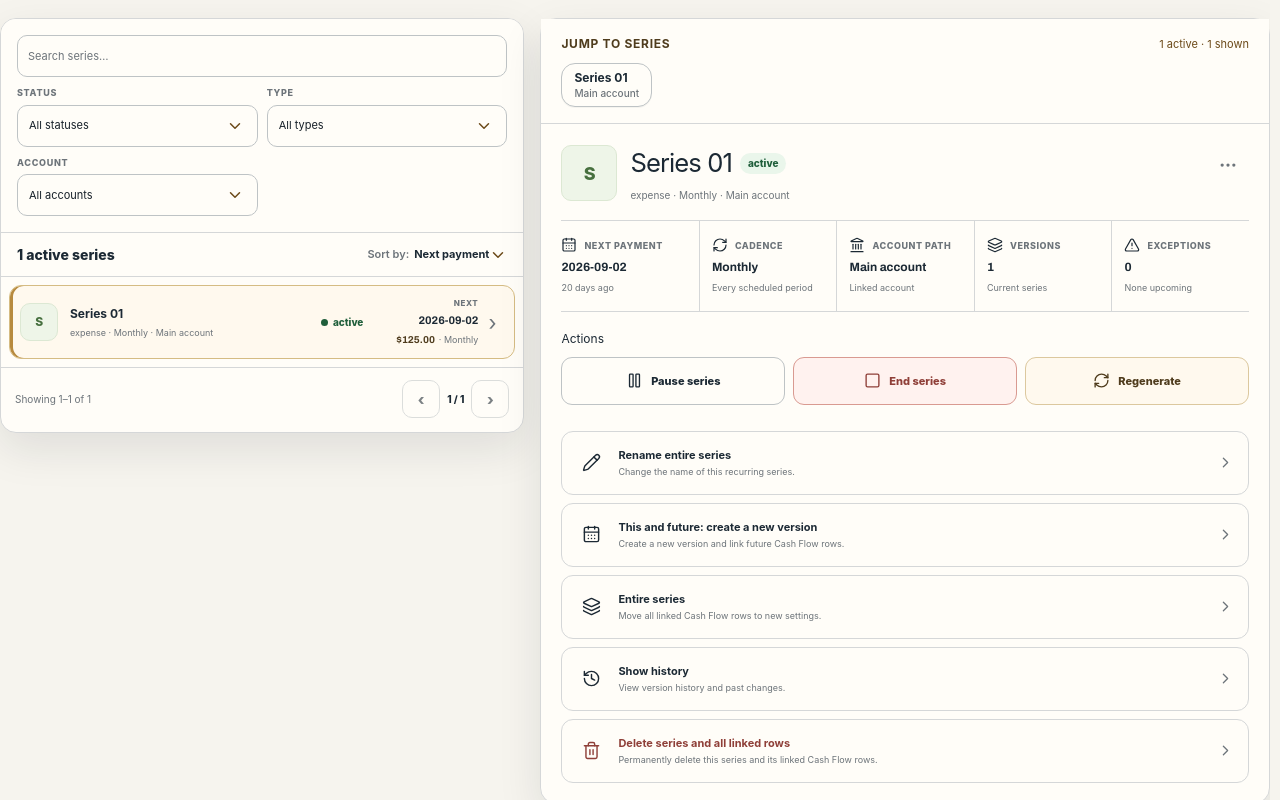
Scenario: RecurringCashFlowManager derived and keyed state › keeps destructive delete errors inside the required-confirmation dialog
Click the button with class "recurring-detail-option" that starts with "Delete series and all linked rows": (704, 743) [561, 719, 1249, 783]
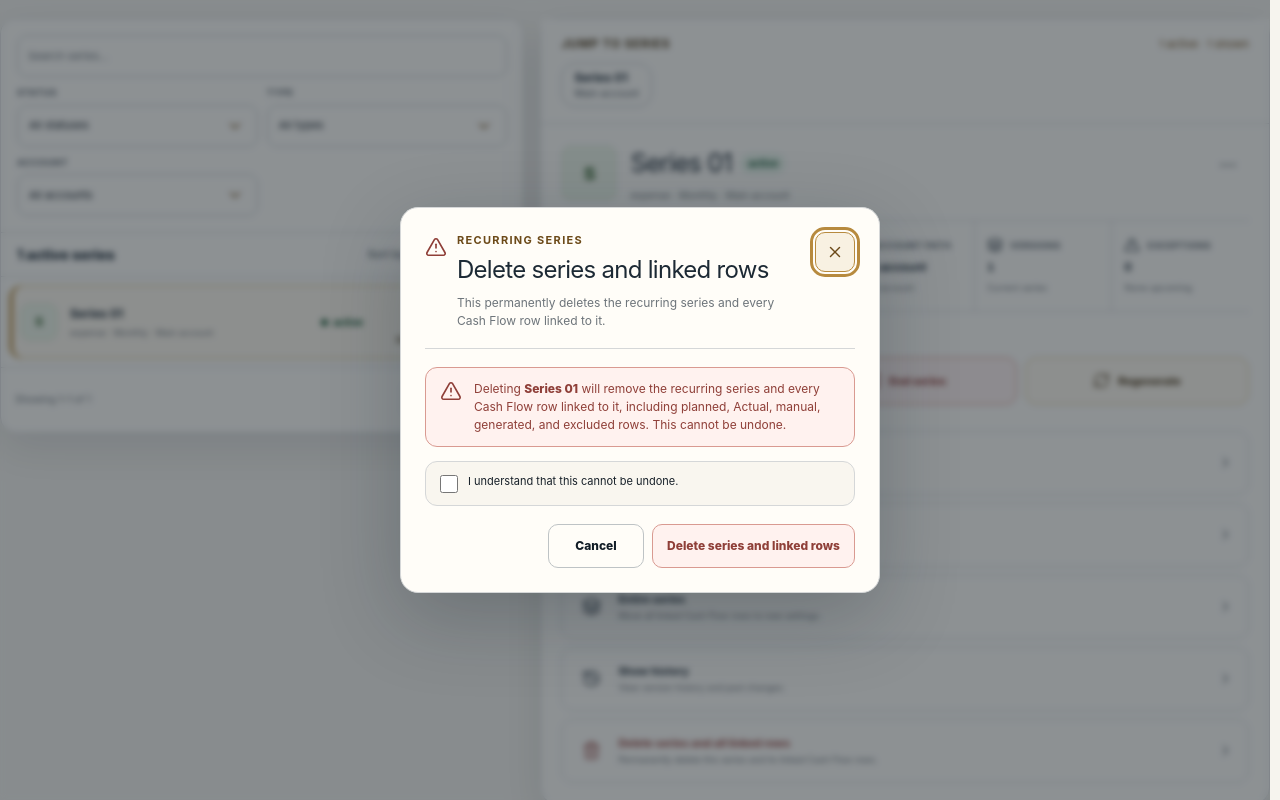
Result: the dialog shows "This cannot be undone." at [474, 381, 820, 432]
Result: the dialog shows "including planned, Actual, manual, generated, and excluded rows" at [474, 381, 820, 432]
Click the checkbox named "confirm": (449, 484) [440, 475, 458, 493]
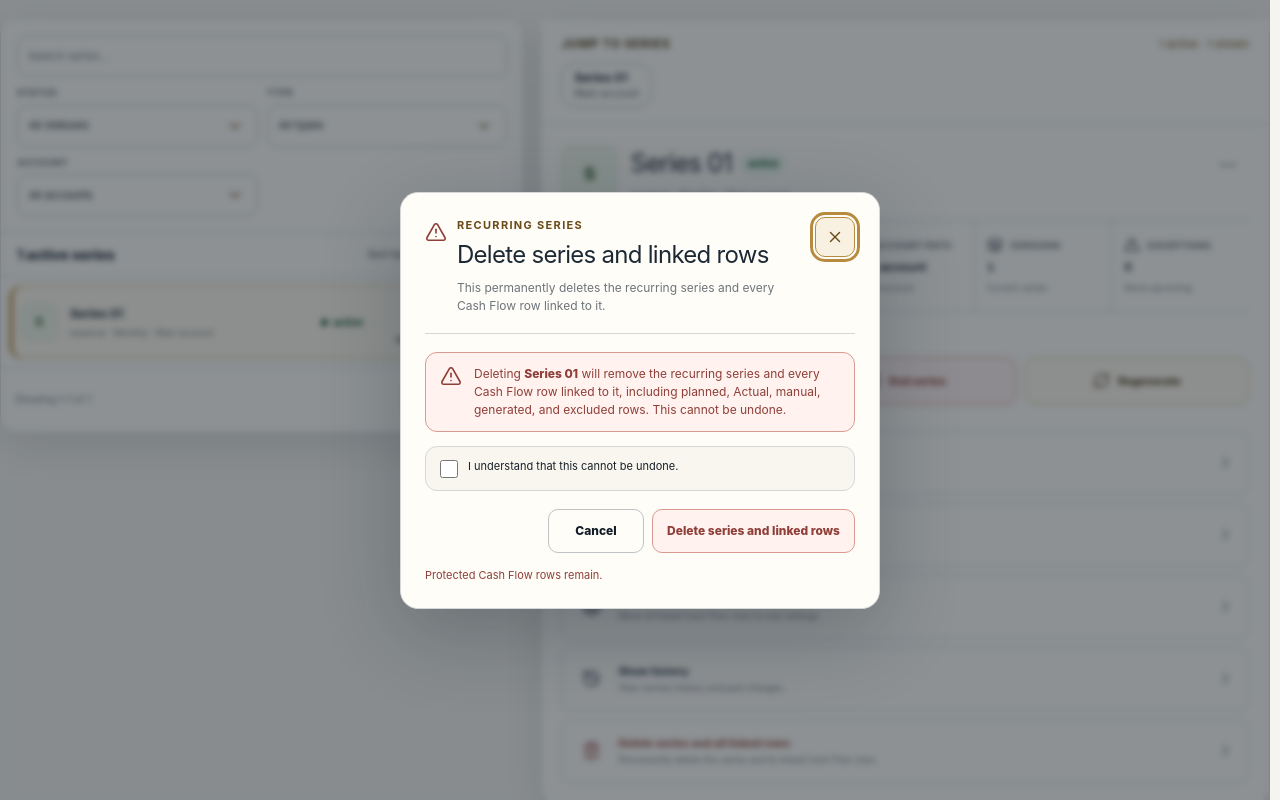
Result: the dialog is shown at [400, 192, 880, 608]
Result: the message "Protected Cash Flow rows remain." is shown at [425, 568, 602, 582]
